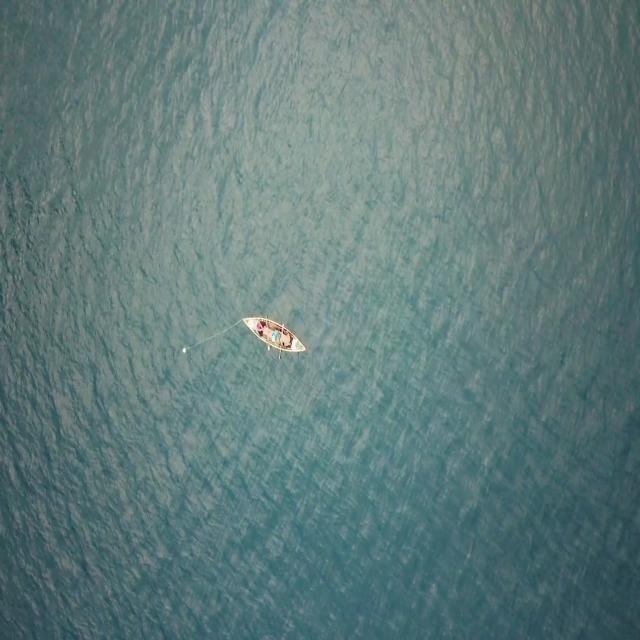ship: (239, 310, 308, 360)
